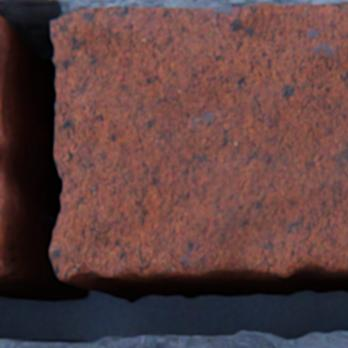broken_brick: (51, 4, 347, 281), (0, 168, 8, 275), (0, 77, 6, 158), (0, 16, 2, 70)
crack: (0, 0, 347, 347)
